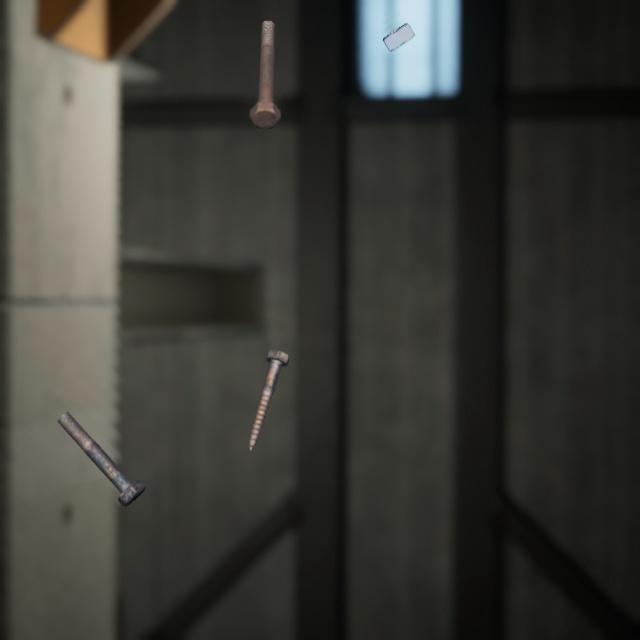bolt: (52, 386, 150, 490), (243, 325, 294, 435), (245, 5, 285, 121)
nut: (378, 11, 419, 48)
